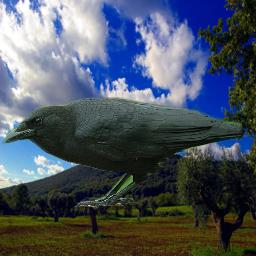Crow: (2, 97, 243, 210)
